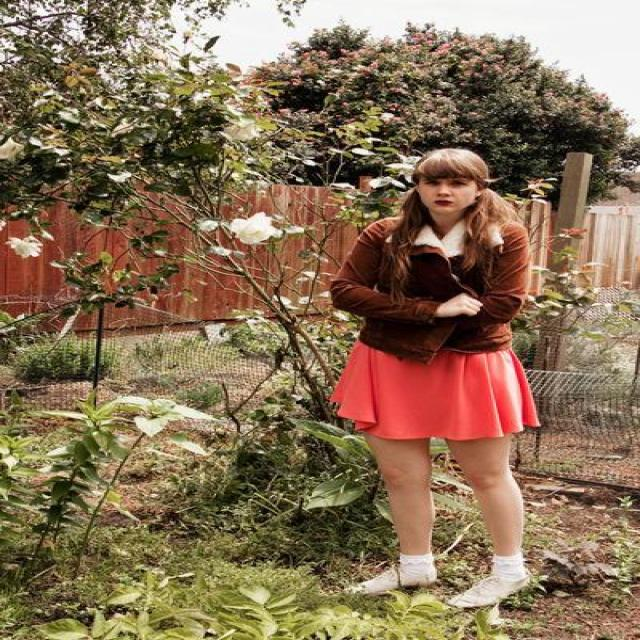jacket: (330, 224, 531, 367)
shoe: (342, 566, 517, 624)
skirt: (330, 320, 544, 439)
